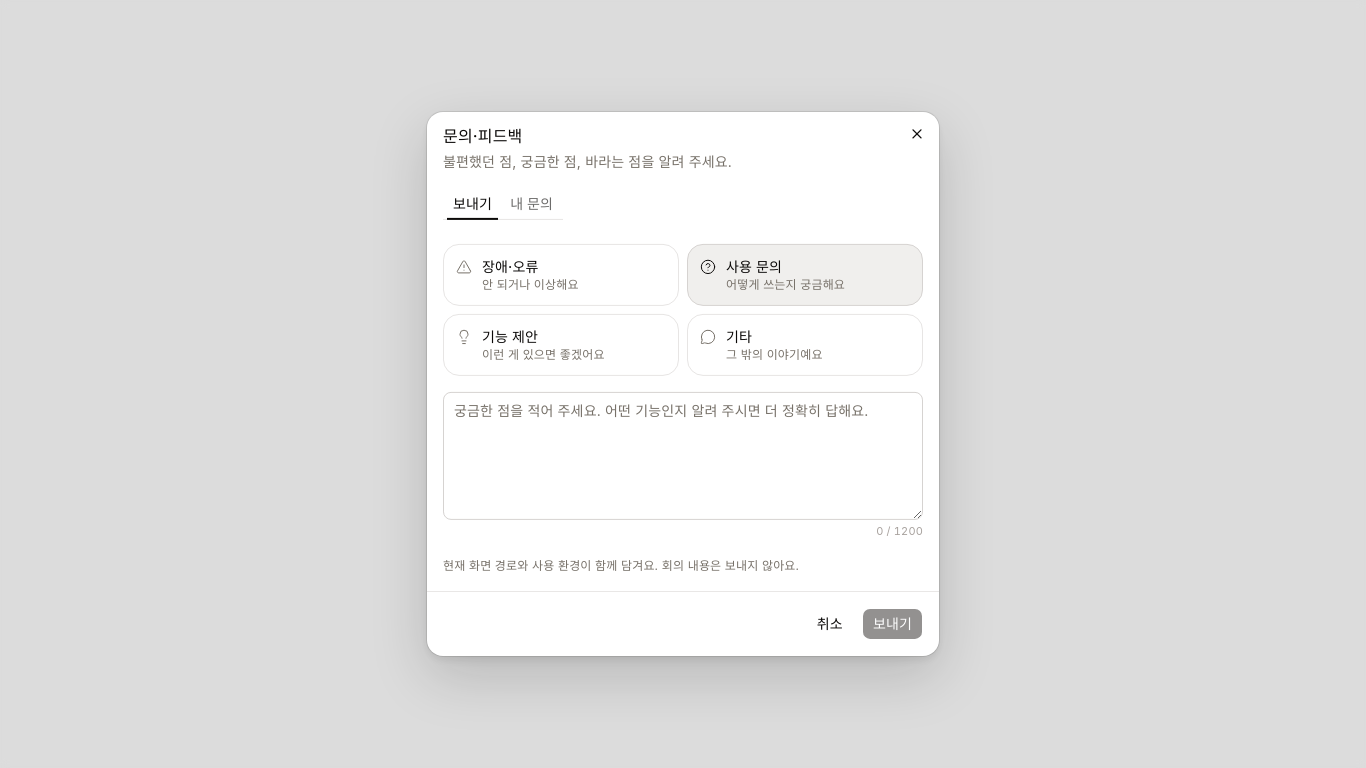
Test: FeedbackDialog › 보낸 문의가 없으면 빈 상태를 보여 준다
The image size is (1366, 768).
Click the tab "내 문의".
click(532, 203)  # box x1=503 y1=191 x2=560 y2=215
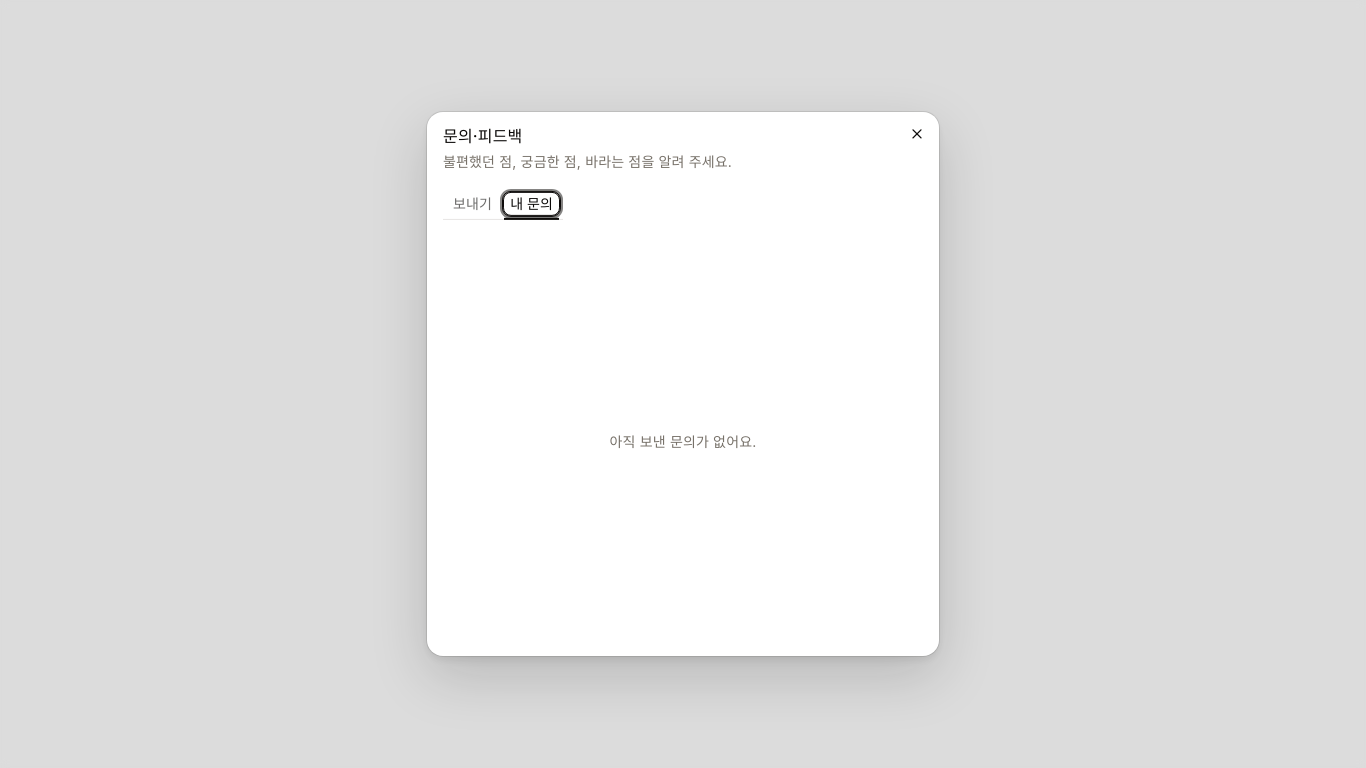
Check: the text "아직 보낸 문의가 없어요." is shown, box x1=610 y1=433 x2=756 y2=450
